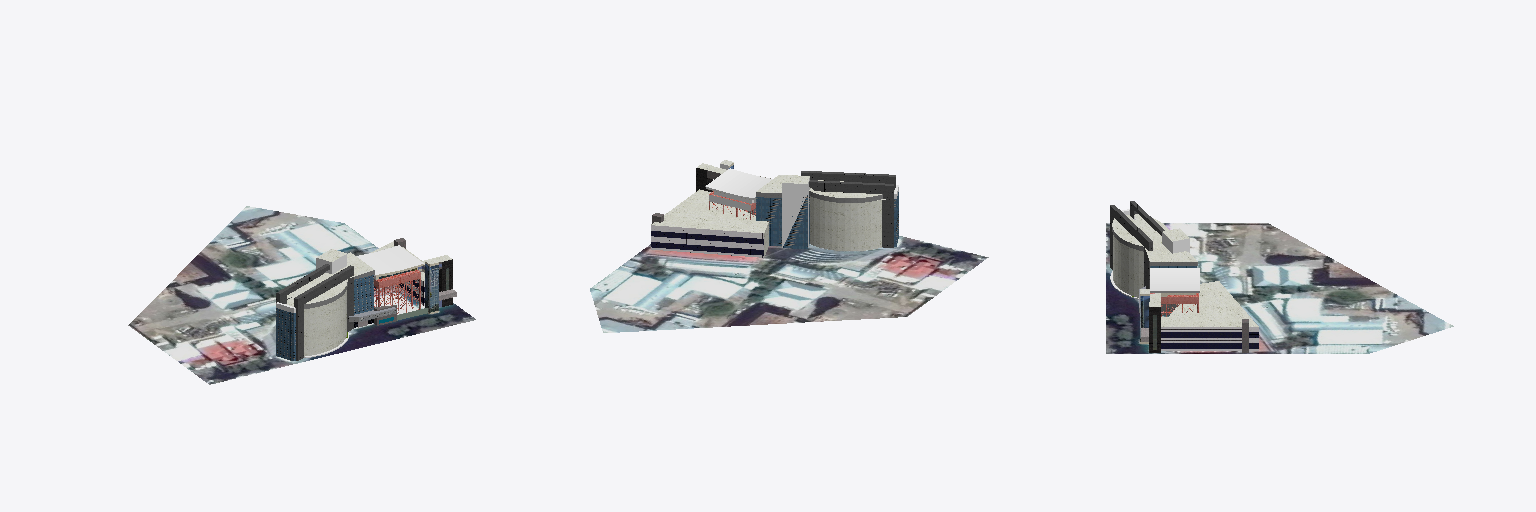
3 renders of one model, left to right at view 1: azimuth 30°, elevation 25°; view 2: azimuth 150°, elevation 25°; view 3: azimuth 270°, elevation 25°, orthographic.
Visible parts, largest first — view 1: Mesh1 Group1 Model, Mesh2 Model; view 2: Mesh1 Group1 Model, Mesh2 Model; view 3: Mesh1 Group1 Model, Mesh2 Model.
Part boxes in pixels (x1,y1,x2,y2): Mesh1 Group1 Model: (128,206,475,384); Mesh2 Model: (276,238,456,360); Mesh1 Group1 Model: (590,209,988,332); Mesh2 Model: (651,160,898,257); Mesh1 Group1 Model: (1106,223,1453,353); Mesh2 Model: (1110,201,1258,352).
Bounding box in the file's own units: 126 × 29.43 × 142.
Materials: 37 (31 with a texture image).